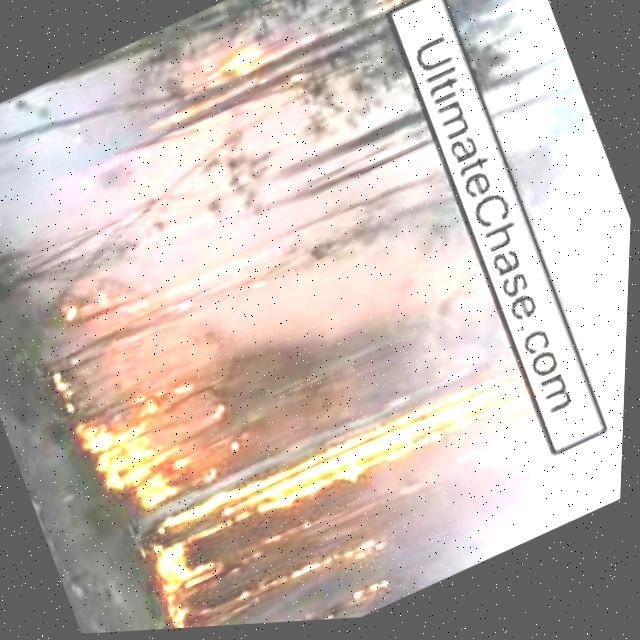Fire: (220, 390, 526, 547), (81, 391, 273, 635), (277, 533, 384, 600), (51, 276, 122, 337), (214, 31, 283, 87), (368, 0, 464, 31), (353, 576, 400, 615)
Smoke: (38, 0, 593, 637), (438, 0, 640, 511)
